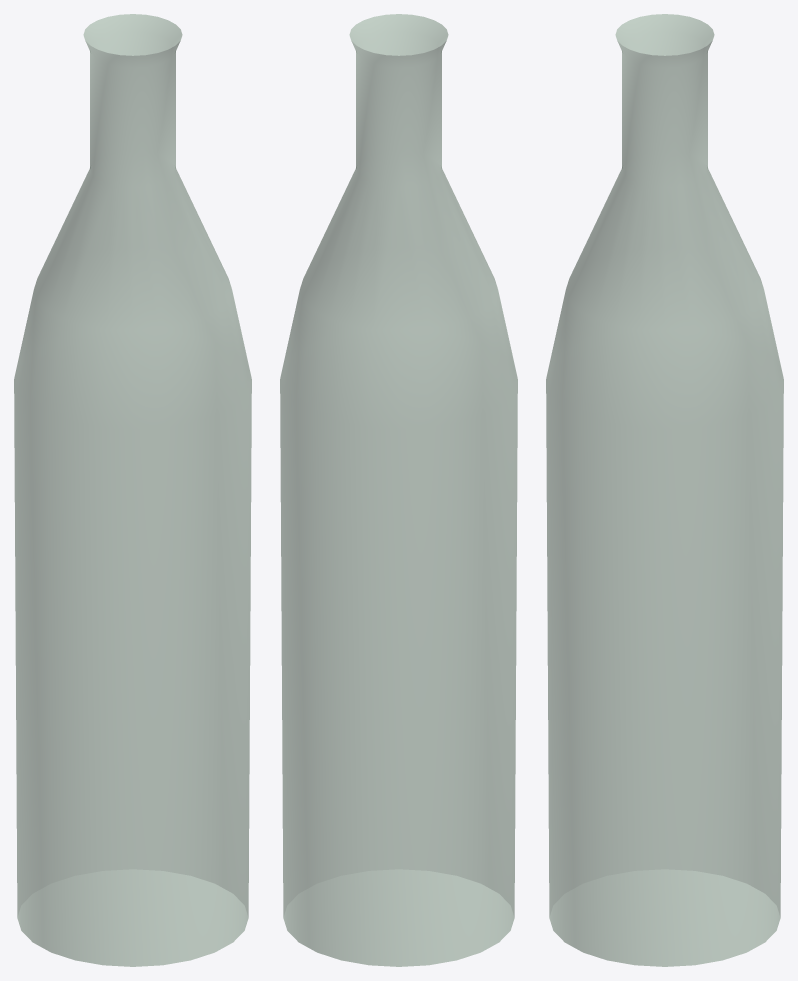
File: SM_Bottle_Glass.fbx
3 renders of one model, left to right at view 1: azimuth 30°, elevation 25°; view 2: azimuth 150°, elevation 25°; view 3: azimuth 270°, elevation 25°, orthographic.
Visible parts, largest first — view 1: SM_Bottle_Glass; view 2: SM_Bottle_Glass; view 3: SM_Bottle_Glass.
Part boxes in pixels (x1,y1,x2,y2): SM_Bottle_Glass: [14, 14, 251, 966]; SM_Bottle_Glass: [280, 14, 517, 966]; SM_Bottle_Glass: [546, 14, 783, 966].
Bounding box in the file's own units: 0.072 × 0.295 × 0.072.
